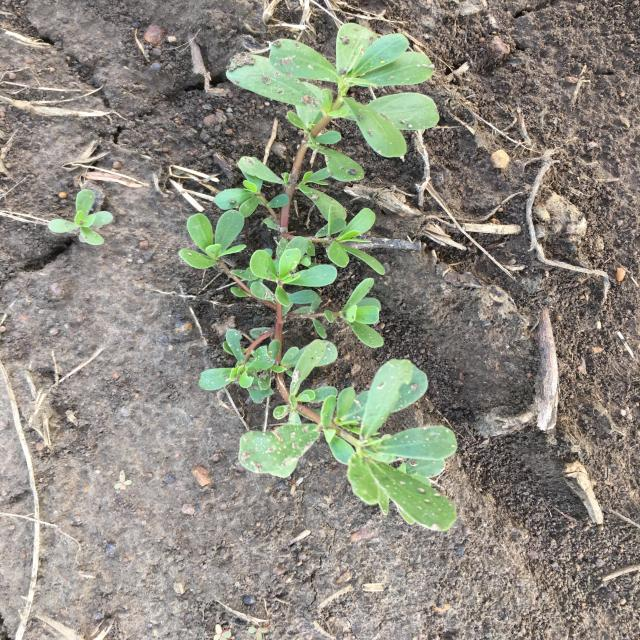Purslane: (178, 22, 458, 532), (48, 189, 113, 245)
